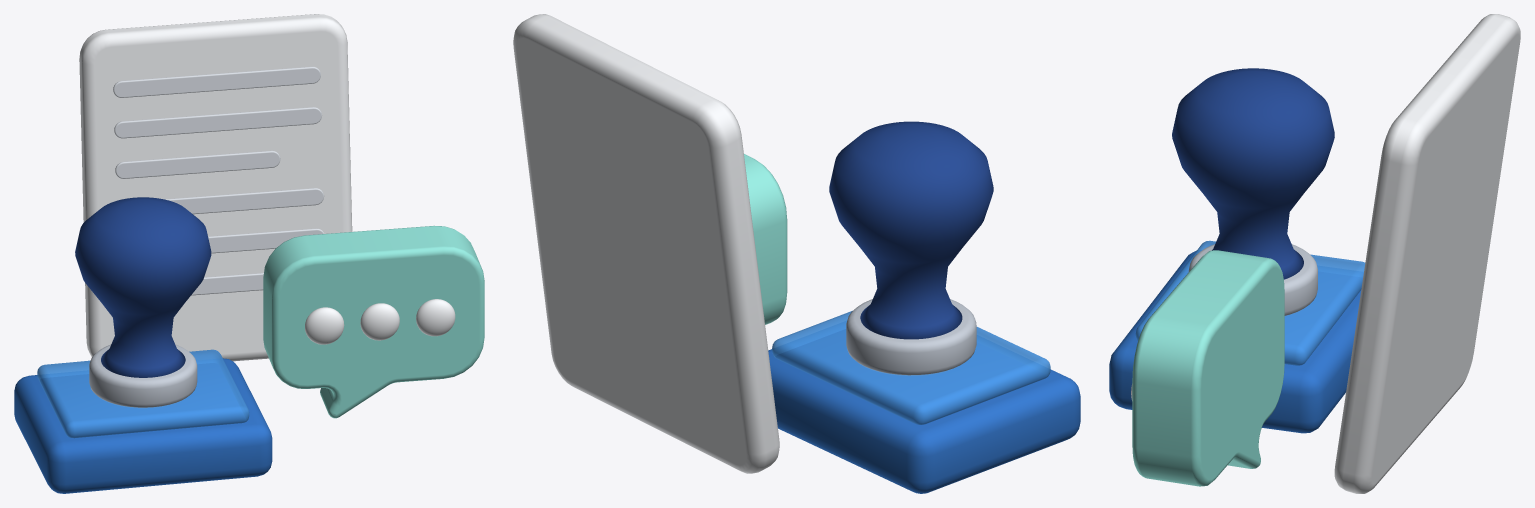
The model's file is module-05.glb.
The picture shows the model from 3 angles, left to right: view 1: azimuth 30°, elevation 25°; view 2: azimuth 150°, elevation 25°; view 3: azimuth 270°, elevation 25°; orthographic projection. The views are drawn at different scales.
Visible parts, largest first — view 1: report_paper, bubble_body, stamp_pad, stamp_handle, stamp_plate, stamp_collar, report_line1, report_line0, report_line2, report_line3, report_line4, dot2 (+3 smaller); view 2: report_paper, stamp_pad, stamp_handle, stamp_plate, stamp_collar, bubble_body; view 3: report_paper, bubble_body, stamp_handle, stamp_pad, stamp_plate, stamp_collar.
Boxes of the visible parts, x1=… form: report_paper: x1=79, y1=14, x2=352, y2=361; bubble_body: x1=263, y1=225, x2=484, y2=418; stamp_pad: x1=14, y1=358, x2=272, y2=493; stamp_handle: x1=75, y1=197, x2=211, y2=377; stamp_plate: x1=37, y1=349, x2=249, y2=438; stamp_collar: x1=89, y1=344, x2=197, y2=407; report_line1: x1=114, y1=107, x2=321, y2=138; report_line0: x1=113, y1=66, x2=320, y2=97; report_line2: x1=115, y1=150, x2=280, y2=178; report_line3: x1=165, y1=188, x2=324, y2=214; report_line4: x1=208, y1=228, x2=324, y2=253; dot2: x1=416, y1=299, x2=455, y2=336; report_paper: x1=513, y1=14, x2=779, y2=473; stamp_pad: x1=768, y1=329, x2=1080, y2=493; stamp_handle: x1=829, y1=121, x2=993, y2=339; stamp_plate: x1=772, y1=310, x2=1050, y2=424; stamp_collar: x1=846, y1=299, x2=976, y2=375; bubble_body: x1=744, y1=154, x2=787, y2=324; report_paper: x1=1334, y1=14, x2=1520, y2=493; bubble_body: x1=1132, y1=250, x2=1284, y2=486; stamp_handle: x1=1172, y1=68, x2=1334, y2=279; stamp_pad: x1=1109, y1=250, x2=1362, y2=433; stamp_plate: x1=1135, y1=240, x2=1365, y2=365; stamp_collar: x1=1188, y1=244, x2=1317, y2=315.
Size of the model in its own units: 2.08 by 1.55 by 1.46.
